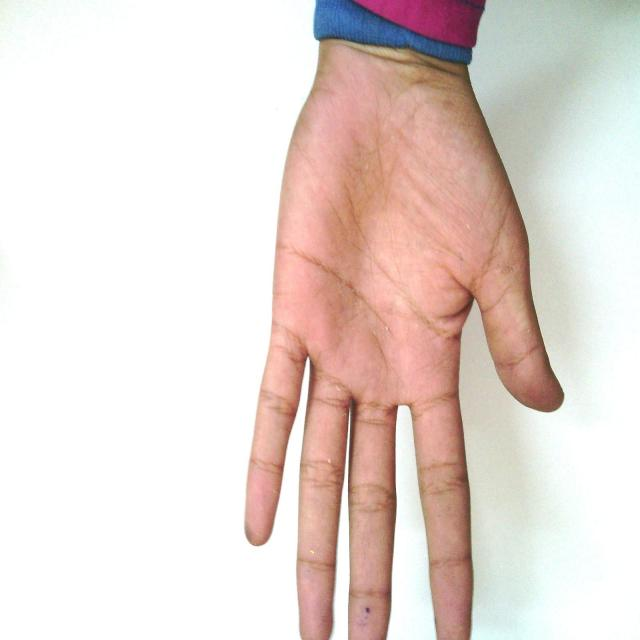others: (195, 0, 582, 640)
